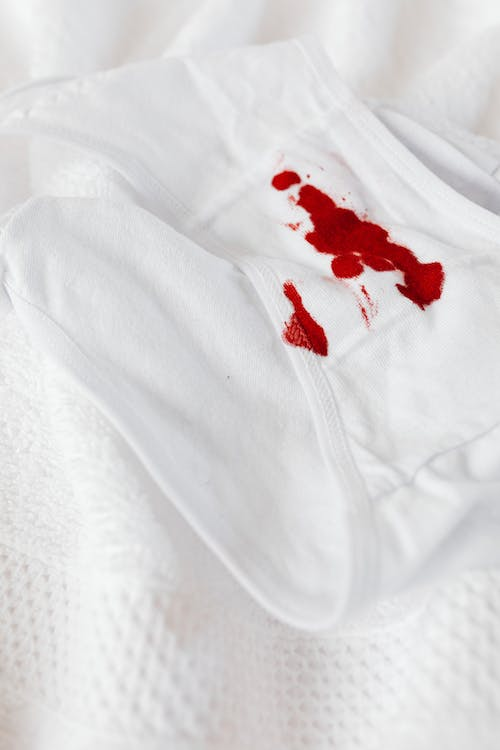blood: (267, 166, 447, 362)
